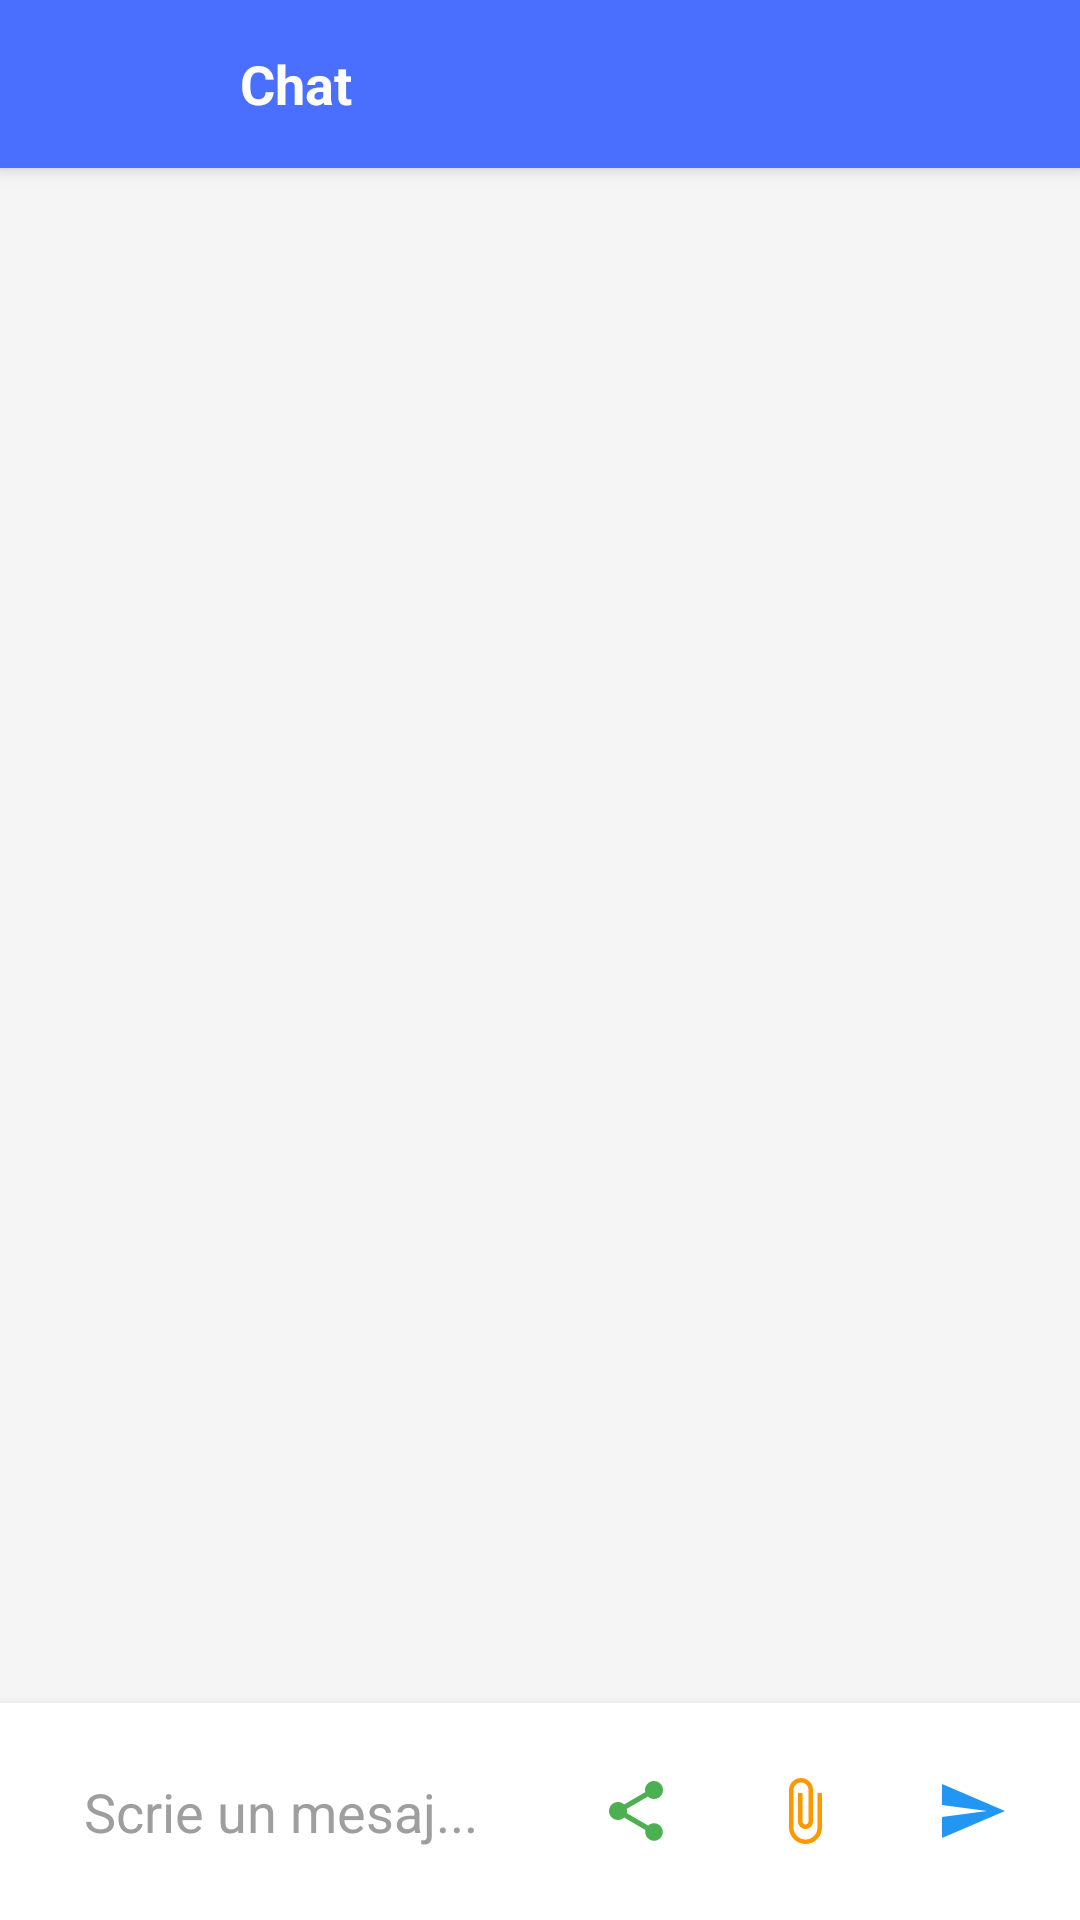

Named icons in this screenshot (1080 × 1920) and their centers, [x,y]:
Attach File: [805,1811]
Send Message: [973,1811]
Share: [636,1811]
